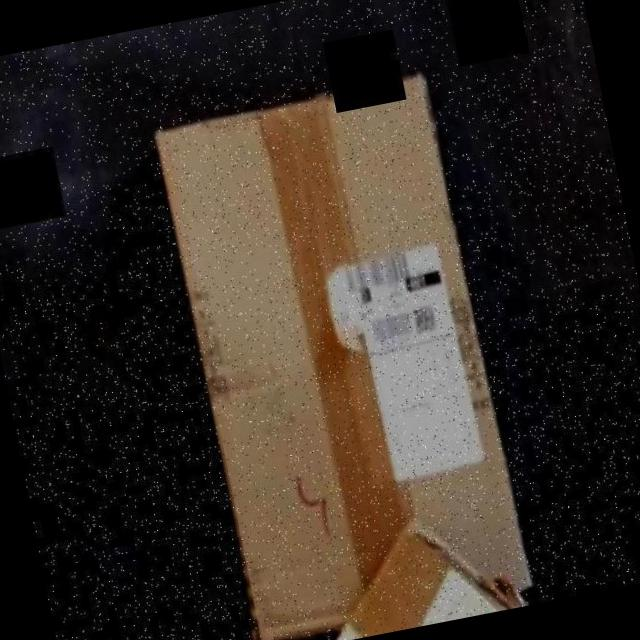box: (148, 65, 541, 640)
